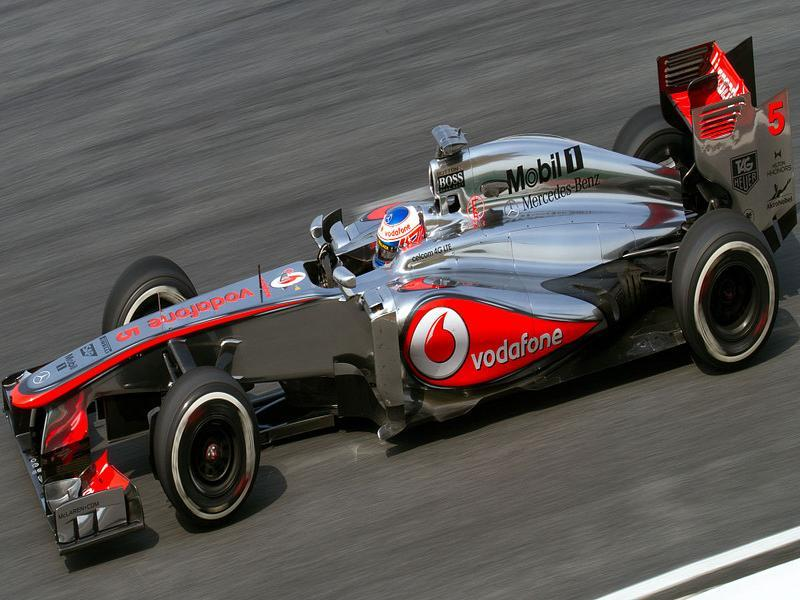f1: (7, 74, 785, 537)
